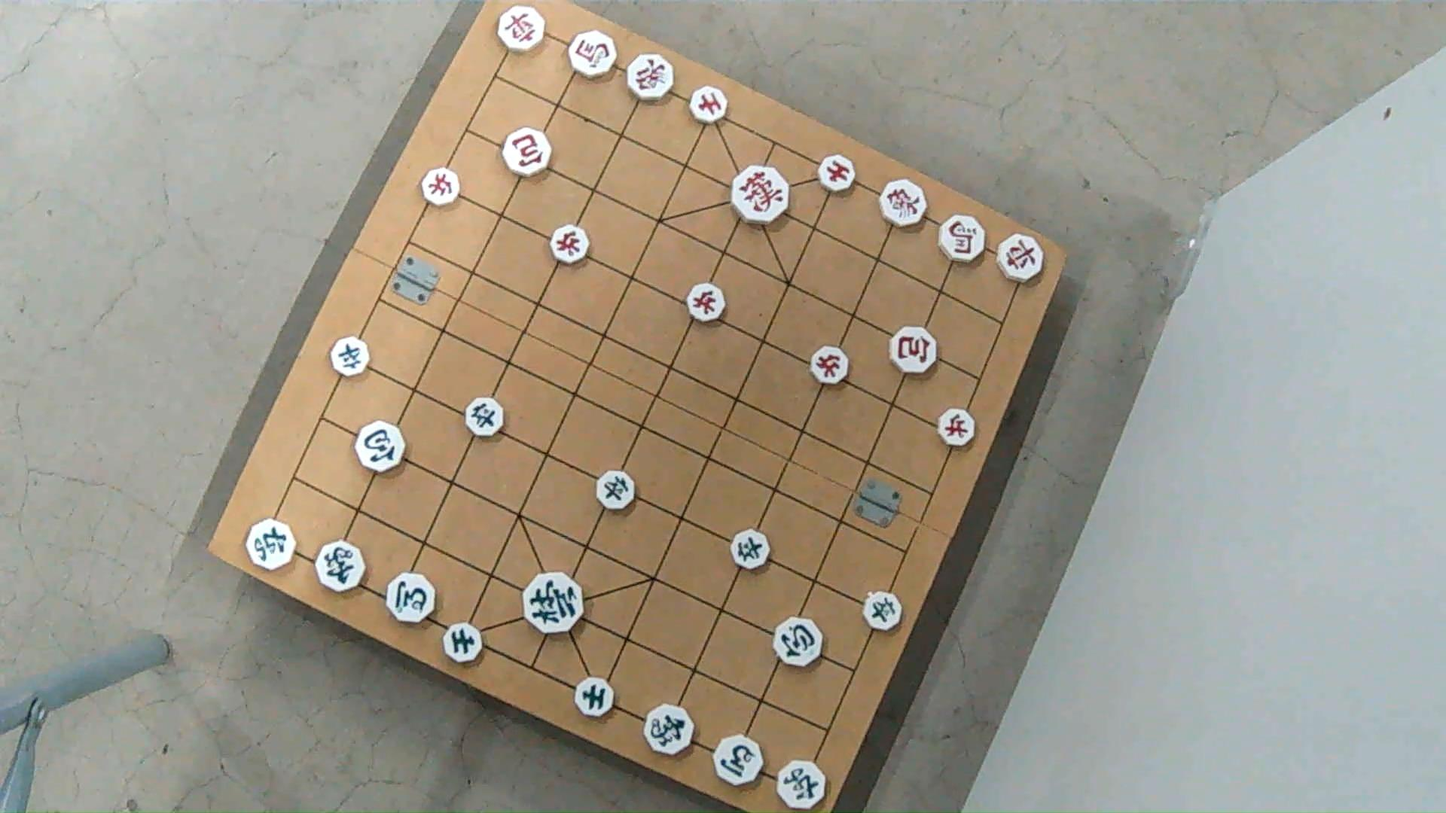cha_green: (246, 517, 295, 571), (779, 760, 827, 809)
cha_red: (996, 231, 1043, 285), (499, 5, 547, 53)
jol_green: (859, 592, 904, 630), (462, 398, 505, 436), (328, 339, 371, 376), (596, 473, 638, 510), (729, 531, 771, 568)
jol_red: (416, 169, 459, 205), (685, 286, 725, 324), (938, 409, 979, 446), (548, 226, 590, 262), (807, 349, 848, 385)
ma_green: (710, 736, 767, 786), (386, 575, 437, 624)
ma_red: (567, 32, 618, 78), (941, 216, 989, 261)
po_green: (357, 423, 410, 471), (773, 619, 825, 667)
po_red: (499, 129, 551, 175), (886, 329, 936, 373)
sa_green: (444, 624, 484, 664), (573, 678, 614, 716)
sa_red: (685, 87, 728, 122), (816, 156, 856, 191)
sang_green: (647, 702, 694, 759), (314, 542, 365, 588)
sang_red: (879, 178, 929, 225), (626, 54, 674, 102)
wang_green: (526, 576, 588, 635)
wang_red: (729, 166, 789, 223)
